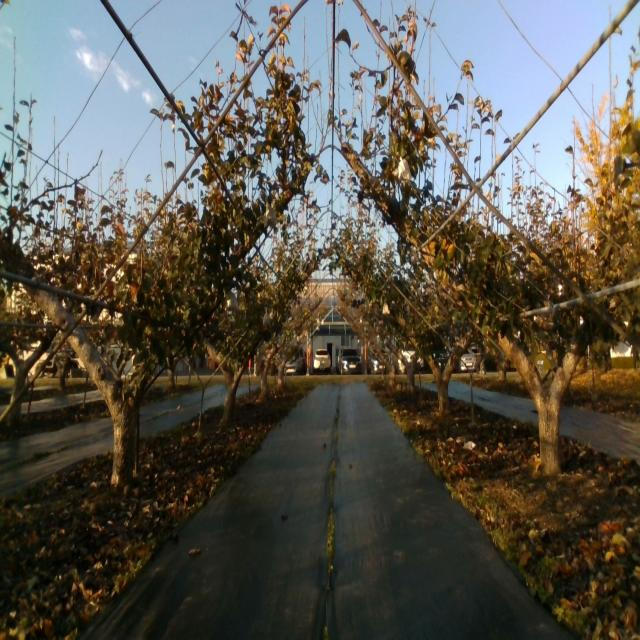pearbags: (398, 155, 411, 181), (264, 205, 277, 227), (225, 292, 239, 312)
